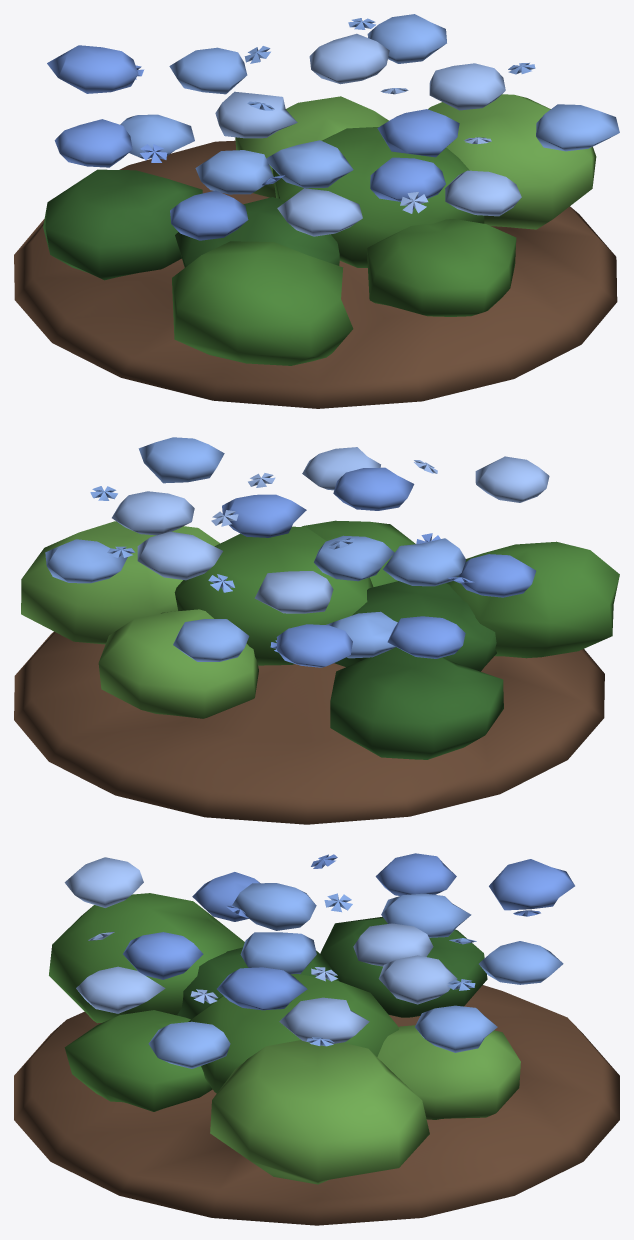
The model's file is forgetMeNots.glb.
3 renders of one model, top to bottom at view 1: azimuth 30°, elevation 25°; view 2: azimuth 150°, elevation 25°; view 3: azimuth 270°, elevation 25°, orthographic. The views are drawn at different scales.
Parts seen in each view (by area): view 1: forgetMeNots; view 2: forgetMeNots; view 3: forgetMeNots.
Boxes of the visible parts, x1,y1,x2,y2 form: forgetMeNots: (14,14,619,408); forgetMeNots: (14,437,619,824); forgetMeNots: (14,853,619,1225).
Bounding box in the file's own units: 0.866 × 0.28 × 0.84.
